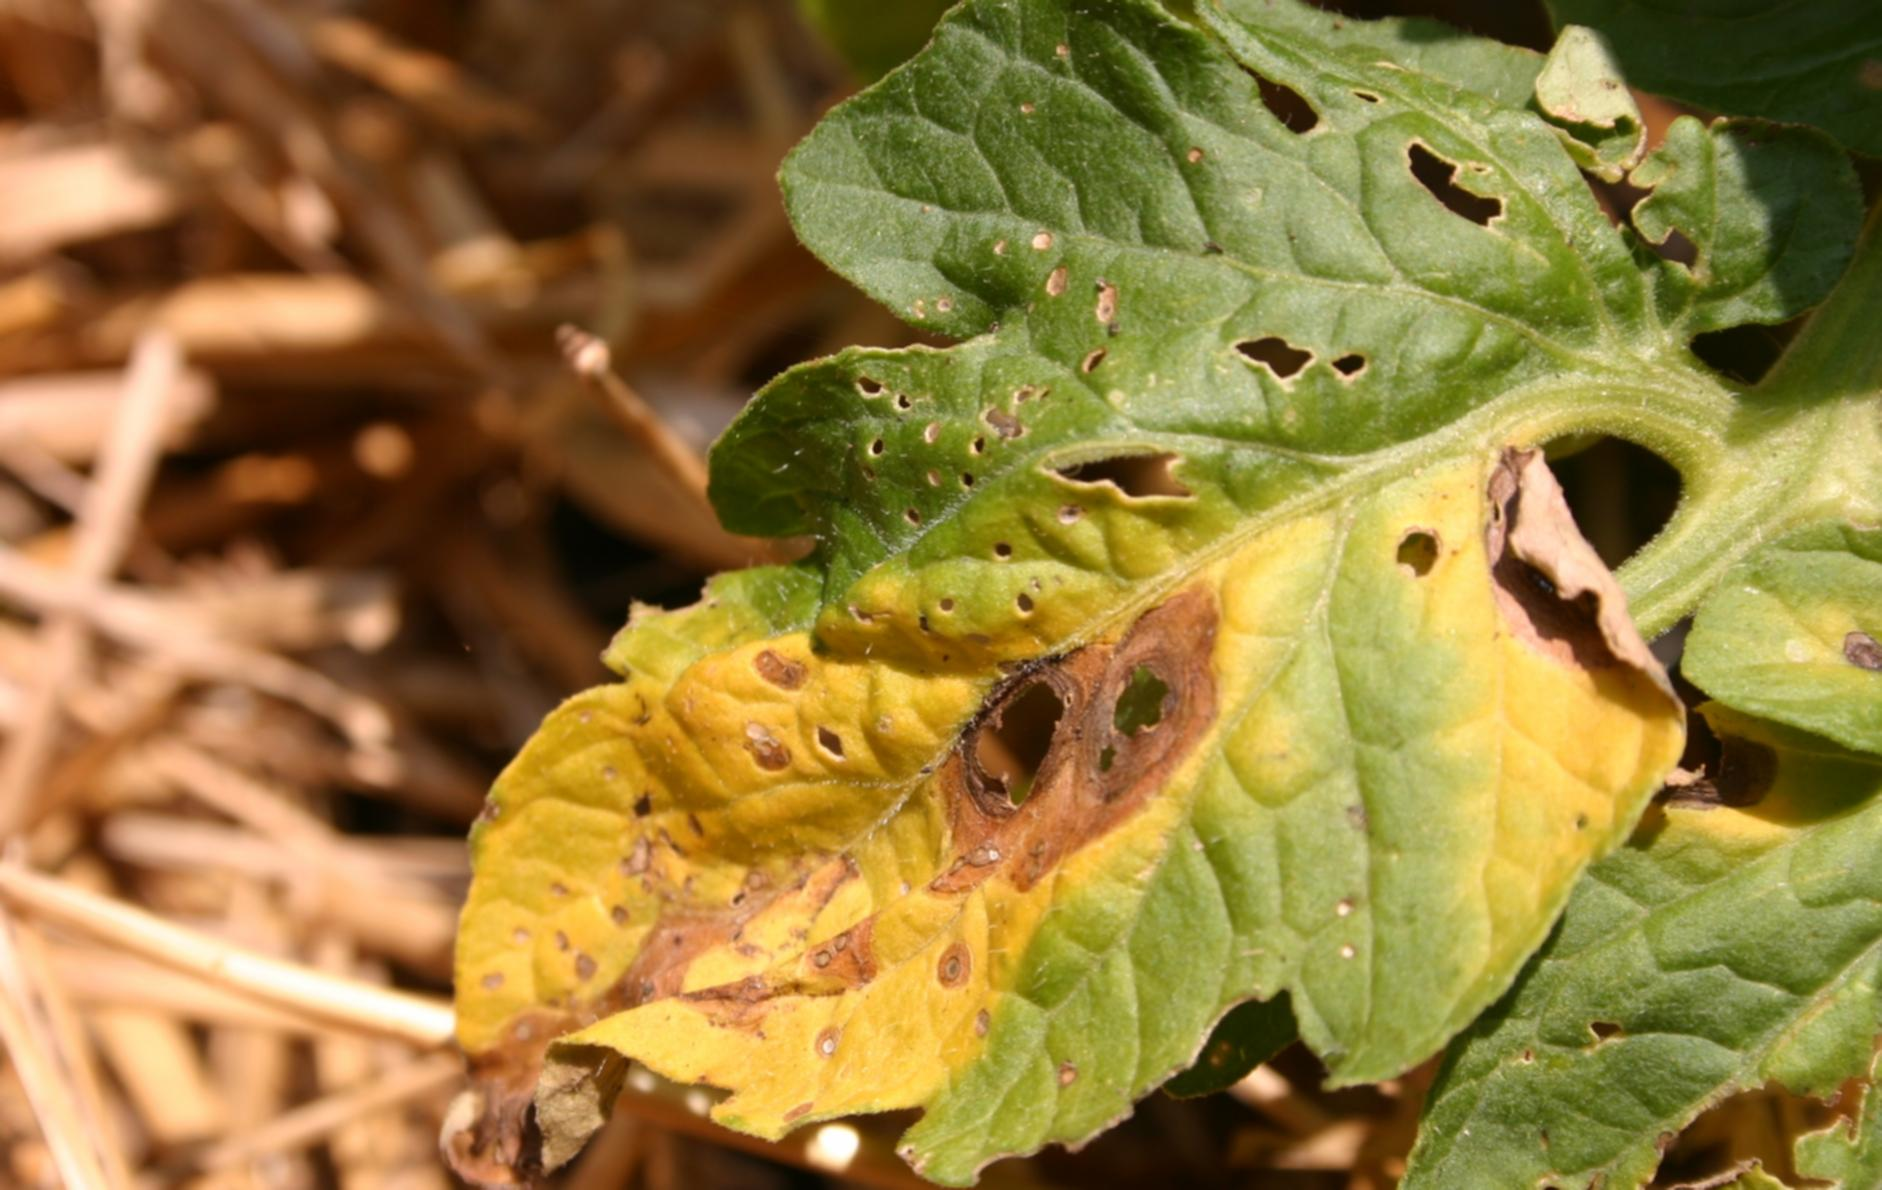Tomato Early blight leaf: (377, 116, 1574, 1177)
